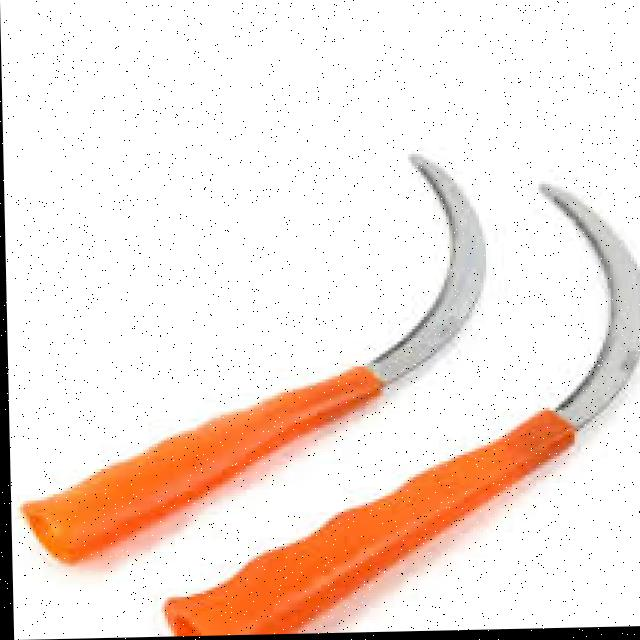sickle: (148, 185, 640, 637), (58, 110, 494, 524)
